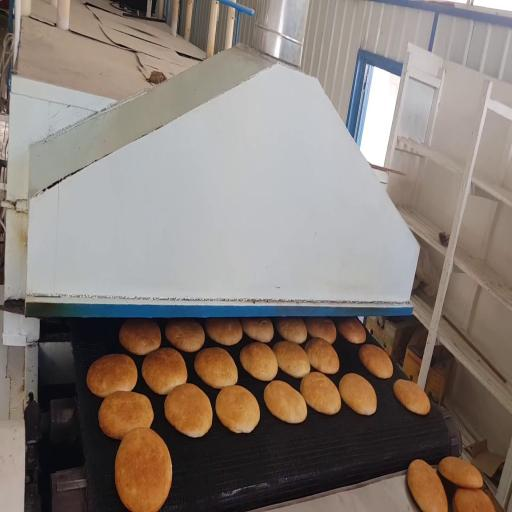bread: (115, 428, 171, 511), (165, 384, 212, 438), (99, 392, 153, 439), (87, 354, 137, 397), (407, 460, 448, 511), (142, 348, 187, 394), (216, 386, 259, 433), (264, 381, 307, 423), (300, 372, 341, 414), (195, 348, 237, 388), (339, 374, 377, 415), (240, 342, 278, 381), (119, 320, 161, 355), (273, 341, 310, 378), (439, 457, 483, 488), (394, 380, 430, 415), (166, 319, 204, 352), (305, 338, 339, 374), (359, 345, 393, 378), (205, 319, 242, 346), (453, 489, 495, 511), (305, 318, 336, 344), (275, 318, 307, 343), (240, 319, 273, 343), (337, 318, 366, 344)
